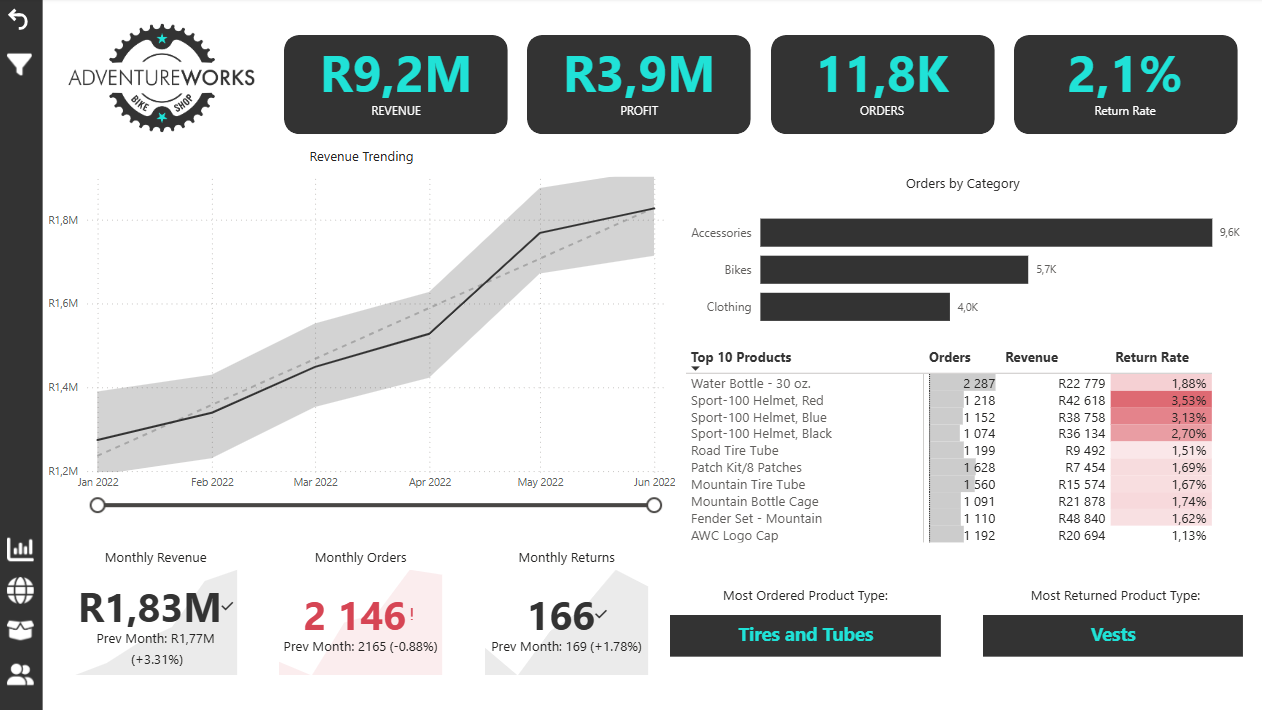

The dashboard page shown, as its layout file describes it:
{"tool":"powerbi","page":{"name":"Exec Dashboard","canvas":[1280,720],"ordinal":0},"visuals":[{"type":"card","fields":{"Values":["Measure Table.Total Revenue"]},"box":[281.3,6,240,150],"z":0,"group":"g2"},{"type":"image","title":"AW Logo","box":[45.6,15.6,240,131.1],"z":0},{"type":"group","id":"g1","title":"KPI Backgrounds","box":[288,37.1,961.1,100],"z":0,"group":"g3"},{"type":"shape","box":[533.2,37.1,225.6,100],"z":0,"group":"g1"},{"type":"actionButton","box":[5,538,35.3,35.3],"z":0,"group":"g4"},{"type":"shape","title":"Left Nav Background","box":[0,0,45,720],"z":1000},{"type":"group","id":"g2","title":"KPI Values","box":[281.3,6,974.4,150],"z":1000,"group":"g3"},{"type":"card","fields":{"Values":["Measure Table.Total Profit"]},"box":[526.1,6,240,150],"z":1000,"group":"g2"},{"type":"shape","box":[778.4,37.1,225.6,100],"z":1000,"group":"g1"},{"type":"actionButton","box":[5,579.7,35,35],"z":1000,"group":"g4"},{"type":"group","id":"g3","title":"KPIs","box":[281.3,6,974.4,150],"z":2000},{"type":"card","fields":{"Values":["Measure Table.Total Orders"]},"box":[770.9,6,240,150],"z":2000,"group":"g2"},{"type":"shape","box":[1023.6,37.1,225.6,100],"z":2000,"group":"g1"},{"type":"actionButton","box":[5,620,35,35],"z":2000,"group":"g4"},{"type":"card","fields":{"Values":["Measure Table.Return Rate"]},"box":[1015.7,6,240,150],"z":3000,"group":"g2"},{"type":"shape","box":[288,37.1,225.6,100],"z":3000,"group":"g1"},{"type":"lineChart","title":"Revenue Trending","fields":{"Y":["Measure Table.Total Revenue"],"Category":["Calendar Lookup.Start of Month"]},"box":[45.7,150.4,642.1,371.6],"z":3000},{"type":"actionButton","box":[5,663.9,35,35],"z":3000,"group":"g4"},{"type":"kpi","title":"Monthly Revenue","fields":{"Indicator":["Measure Table.Total Revenue"],"TrendLine":["Calendar Lookup.Start of Month"],"Goal":["Measure Table.Previous Month Revenue"]},"box":[71.6,554.3,174.6,133.4],"z":4000},{"type":"kpi","title":"Monthly Orders","fields":{"TrendLine":["Calendar Lookup.Start of Month"],"Indicator":["Measure Table.Total Orders"],"Goal":["Measure Table.Previous Month Orders"]},"box":[278.5,554.3,174.6,133.4],"z":5000},{"type":"kpi","title":"Monthly Returns","fields":{"TrendLine":["Calendar Lookup.Start of Month"],"Indicator":["Measure Table.Total Returns"],"Goal":["Measure Table.Previous Month Returns"]},"box":[485.4,554.3,174.6,133.4],"z":6000},{"type":"clusteredBarChart","title":"Orders by Category","fields":{"Category":["Product Categories Lookup.CategoryName"],"Y":["Measure Table.Total Orders"]},"box":[688.8,177.7,568,169.6],"z":7000},{"type":"pivotTable","fields":{"Rows":["Product Lookup.ProductName"],"Values":["Measure Table.Total Orders","Measure Table.Total Revenue","Measure Table.Return Rate"]},"box":[688.8,347.3,559.9,218.4],"z":8000},{"type":"card","fields":{"Values":["Min(Product Subcategories Lookup.SubcategoryName)"]},"box":[677.4,621.5,273.4,41.9],"z":9000},{"type":"textbox","box":[660.5,587.6,307.3,33.9],"z":10000},{"type":"card","fields":{"Values":["Min(Product Subcategories Lookup.SubcategoryName)"]},"box":[992.7,621.5,262.4,41.9],"z":11000},{"type":"textbox","box":[972.7,587.6,307.3,33.9],"z":12000},{"type":"actionButton","box":[5.4,6.3,33.1,30.4],"z":13000},{"type":"group","id":"g4","title":"Navigation Buttons","box":[5,538,35.3,160.9],"z":14000},{"type":"actionButton","box":[5,46.4,33.3,40.3],"z":15000}]}

Visuals, with their boxes on the page's 1280x720 design canvas (x1, y1, x2, y2). These are canvas units, not pixel positions in the 1262x710 screenshot, which may show the page scaled, cropped or inside an application window:
card - Measure Table.Total Revenue: l=281, t=6, r=521, b=156
"AW Logo" image: l=46, t=16, r=286, b=147
"KPI Backgrounds" group: l=288, t=37, r=1249, b=137
shape: l=533, t=37, r=759, b=137
actionButton: l=5, t=538, r=40, b=573
"Left Nav Background" shape: l=0, t=0, r=45, b=720
"KPI Values" group: l=281, t=6, r=1256, b=156
card - Measure Table.Total Profit: l=526, t=6, r=766, b=156
shape: l=778, t=37, r=1004, b=137
actionButton: l=5, t=580, r=40, b=615
"KPIs" group: l=281, t=6, r=1256, b=156
card - Measure Table.Total Orders: l=771, t=6, r=1011, b=156
shape: l=1024, t=37, r=1249, b=137
actionButton: l=5, t=620, r=40, b=655
card - Measure Table.Return Rate: l=1016, t=6, r=1256, b=156
shape: l=288, t=37, r=514, b=137
"Revenue Trending" lineChart: l=46, t=150, r=688, b=522
actionButton: l=5, t=664, r=40, b=699
"Monthly Revenue" kpi: l=72, t=554, r=246, b=688
"Monthly Orders" kpi: l=278, t=554, r=453, b=688
"Monthly Returns" kpi: l=485, t=554, r=660, b=688
"Orders by Category" clusteredBarChart: l=689, t=178, r=1257, b=347
pivotTable - Product Lookup.ProductName x Measure Table.Total Orders: l=689, t=347, r=1249, b=566
card - Min(Product Subcategories Lookup.SubcategoryName): l=677, t=622, r=951, b=663
textbox: l=660, t=588, r=968, b=622
card - Min(Product Subcategories Lookup.SubcategoryName): l=993, t=622, r=1255, b=663
textbox: l=973, t=588, r=1280, b=622
actionButton: l=5, t=6, r=38, b=37
"Navigation Buttons" group: l=5, t=538, r=40, b=699
actionButton: l=5, t=46, r=38, b=87
